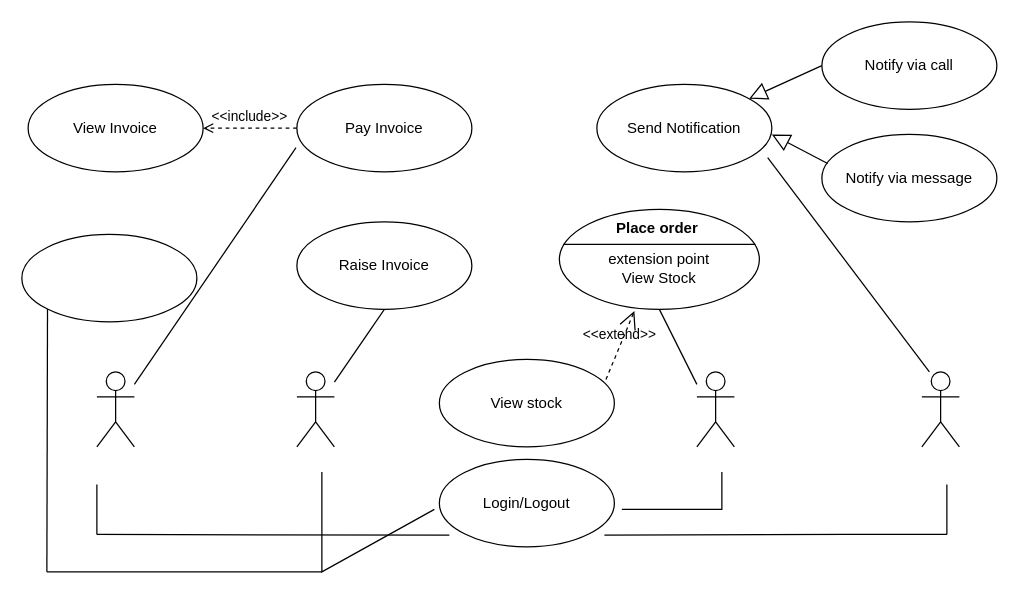
The diagram is 1025 pixels wide and 595 high, and some of its shapes have lost their labels. Each missing label, with the centre of its shape:
"Admin" belongs at (115,409).
"Manager" belongs at (715,409).
"Notification service" belongs at (940,409).
"Send order" belongs at (109,277).
"Supplier" belongs at (315,409).
